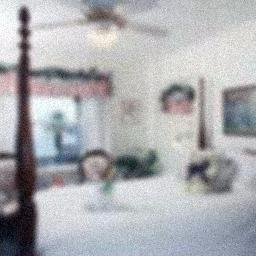Puerta: (163, 80, 194, 168)
